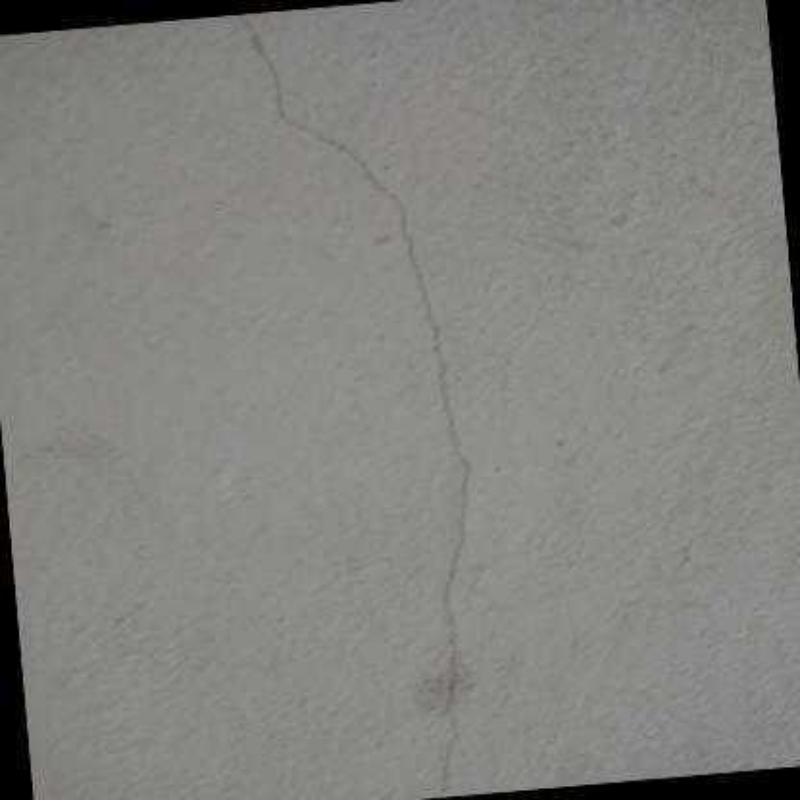crack: (242, 22, 473, 799)
